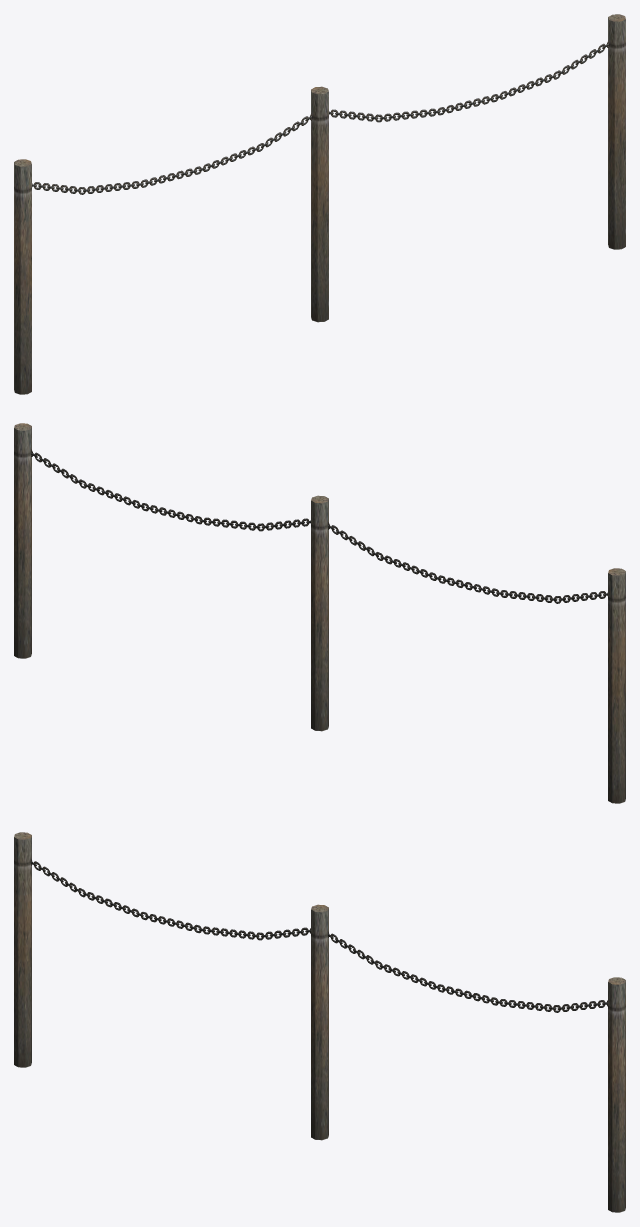
Rendered from extlinedividers.fbx.
3 views of the same model, one above another, from view 1: azimuth 30°, elevation 25°; view 2: azimuth 150°, elevation 25°; view 3: azimuth 330°, elevation 25° (orthographic).
Parts seen in each view (by area): view 1: mesh_2, mesh_3, mesh_1, mesh_0; view 2: mesh_2, mesh_3, mesh_1, mesh_0; view 3: mesh_3, mesh_2, mesh_1, mesh_0.
Boxes of the visible parts, left/top/right/bottom form: mesh_2: left=14, top=159, right=31, bottom=394; mesh_3: left=608, top=14, right=625, bottom=249; mesh_1: left=311, top=86, right=328, bottom=322; mesh_0: left=32, top=40, right=608, bottom=194; mesh_2: left=608, top=568, right=625, bottom=803; mesh_3: left=14, top=423, right=31, bottom=658; mesh_1: left=311, top=495, right=328, bottom=731; mesh_0: left=31, top=449, right=607, bottom=603; mesh_3: left=608, top=977, right=625, bottom=1212; mesh_2: left=14, top=832, right=31, bottom=1067; mesh_1: left=311, top=904, right=328, bottom=1140; mesh_0: left=31, top=859, right=607, bottom=1012.
Bounding box in the file's own units: 308 × 110 × 8.09.
2 materials, 2 textured.
